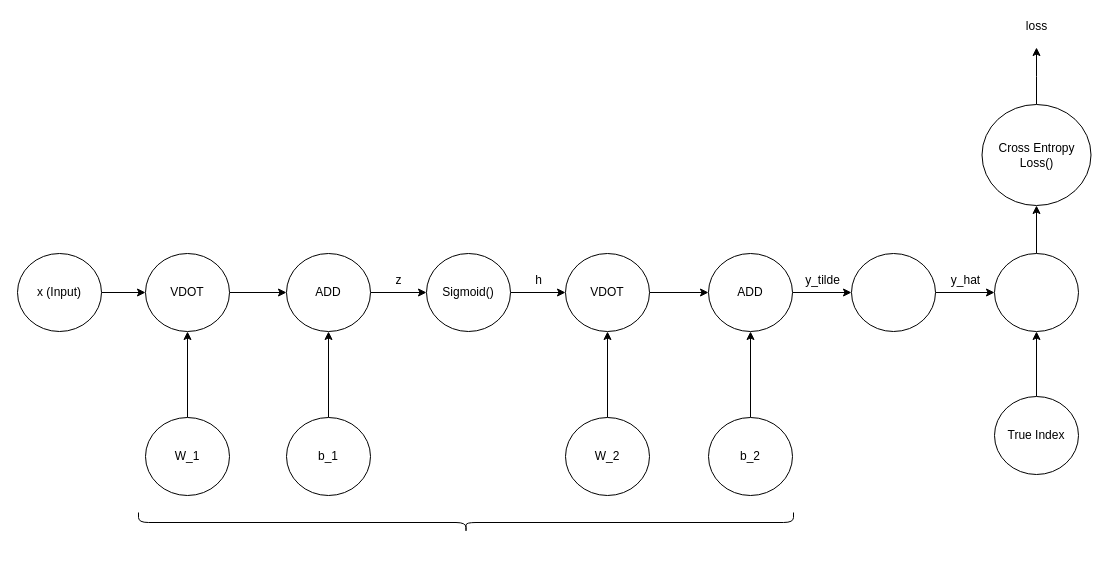
Image size: 1109x576. Some labels were removed from this diagram. The shapes that lost their labels are listed below. From the top down, each one's centre as x and y in pixels, then its label:
the point at 893,292: SoftMax()
the point at 1036,292: Pick
the point at 466,522: Params
